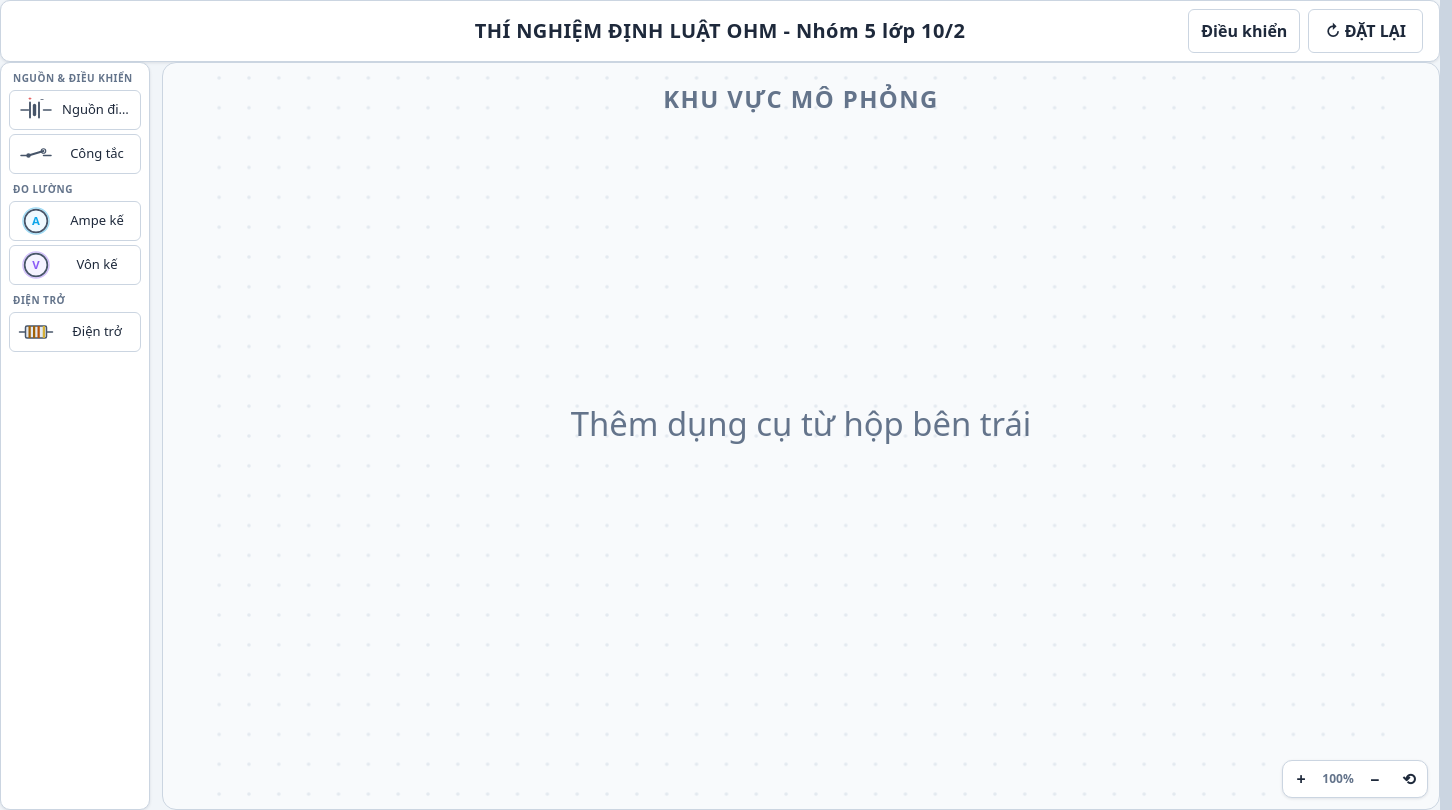
Scenario: Phase 4 measurement engine › enables play when sample circuit is complete
The image size is (1452, 810).
Click the button "Điều khiển".
click(1244, 31)  # box [1188, 9, 1300, 53]
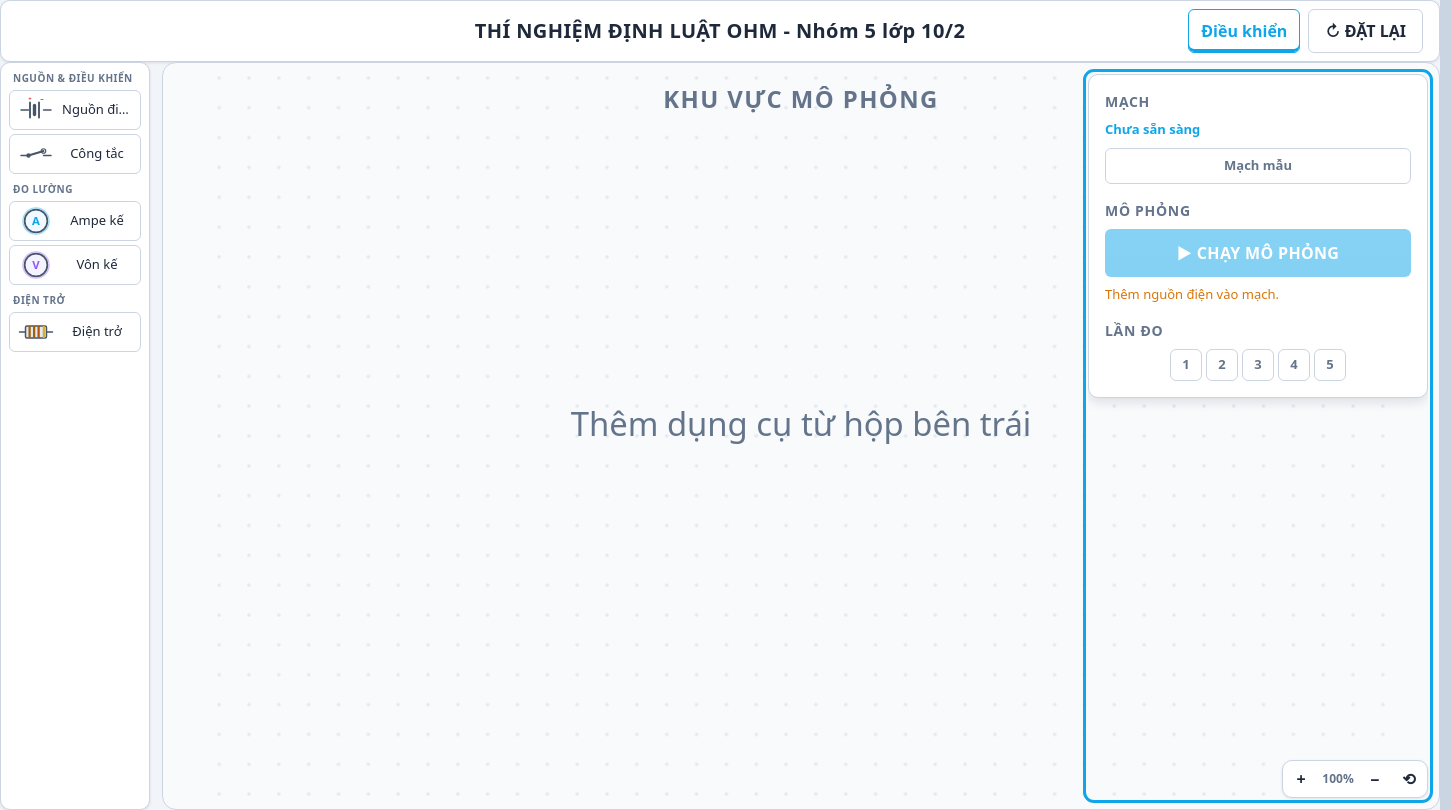
Click the button "Mạch mẫu".
click(1258, 166)  # box [1105, 148, 1411, 184]
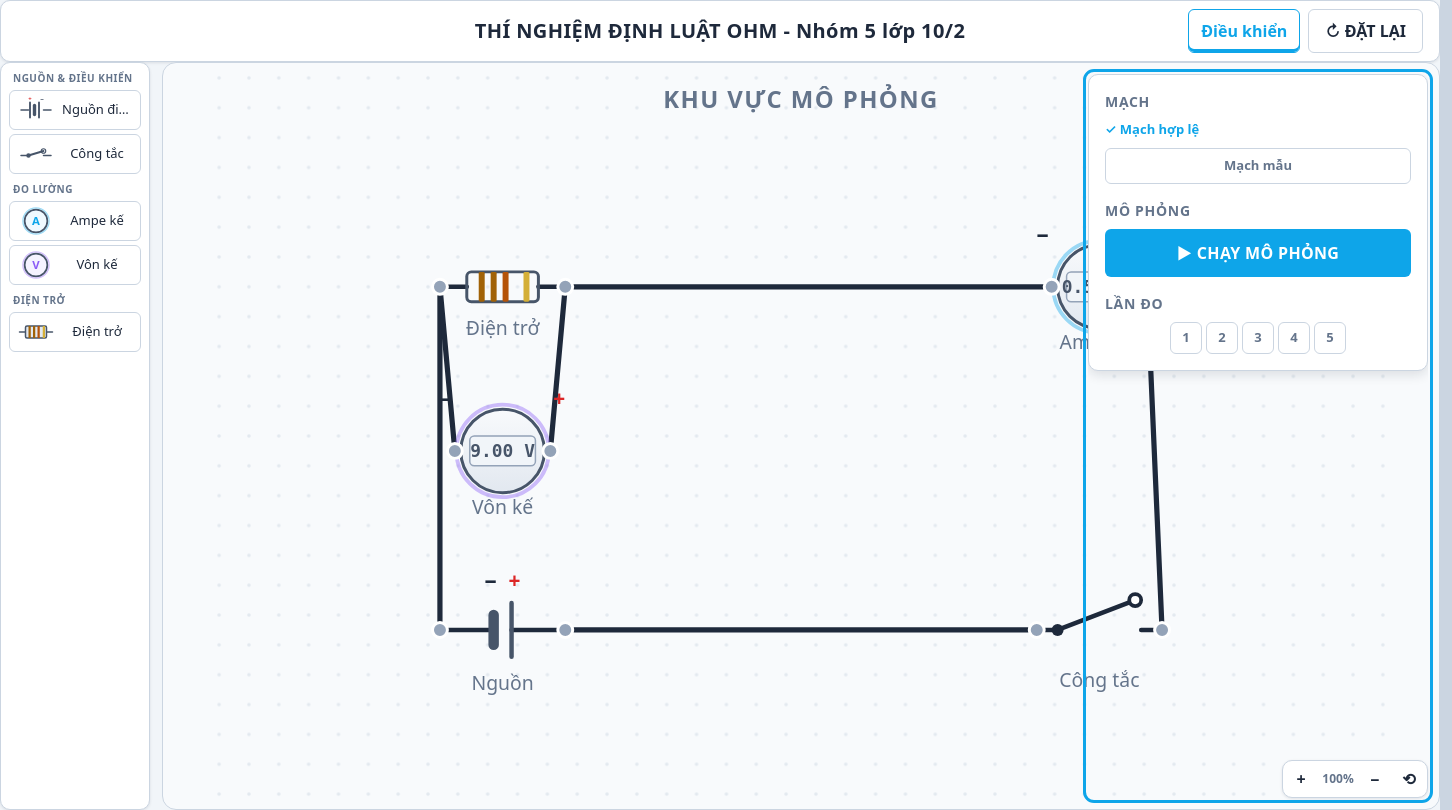
Now the button "▶ CHẠY MÔ PHỎNG" is enabled, box [1105, 228, 1411, 276]
